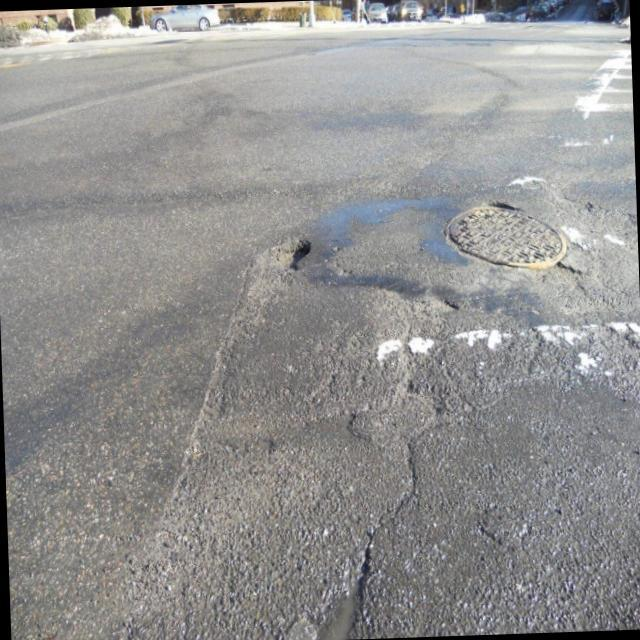Pothole: (435, 190, 577, 280), (295, 532, 401, 640), (255, 224, 312, 276)
